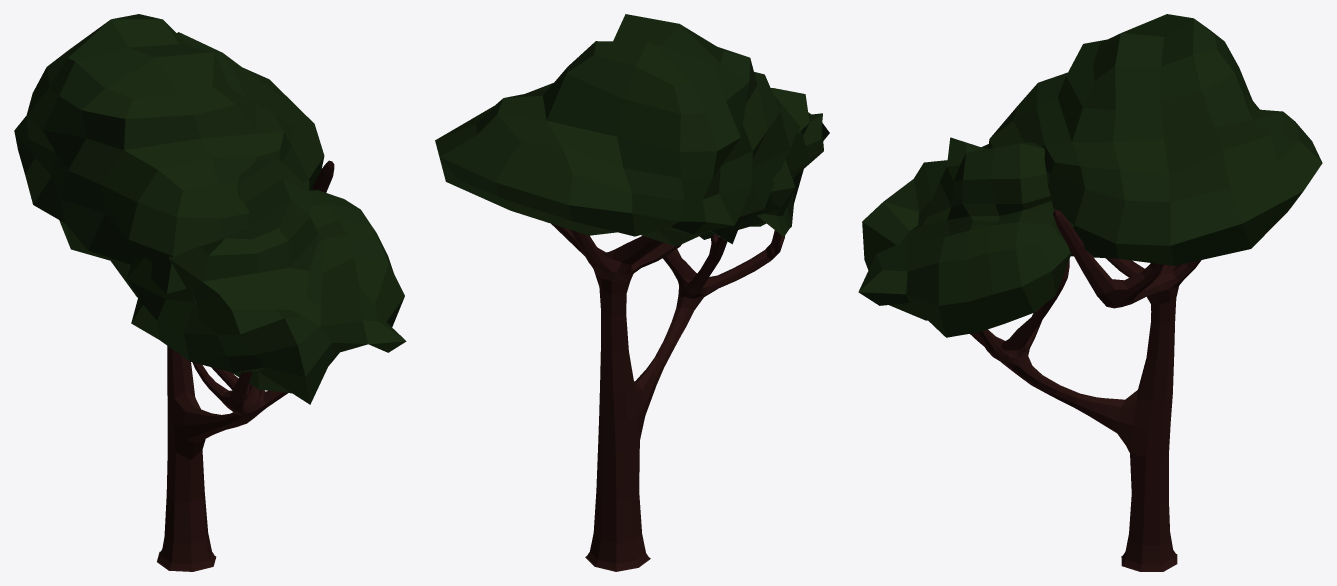
File: CommonTree_2.glb
The picture shows the model from 3 angles, left to right: view 1: azimuth 30°, elevation 25°; view 2: azimuth 150°, elevation 25°; view 3: azimuth 270°, elevation 25°; orthographic projection. The views are drawn at different scales.
Parts seen in each view (by area): view 1: CommonTree_2_Cube.036; view 2: CommonTree_2_Cube.036; view 3: CommonTree_2_Cube.036.
Boxes of the visible parts, x1=… form: CommonTree_2_Cube.036: x1=14, y1=14, x2=406, y2=571; CommonTree_2_Cube.036: x1=435, y1=14, x2=829, y2=571; CommonTree_2_Cube.036: x1=858, y1=14, x2=1322, y2=571.
Size of the model in its own units: 1.66 by 3.12 by 2.54.
